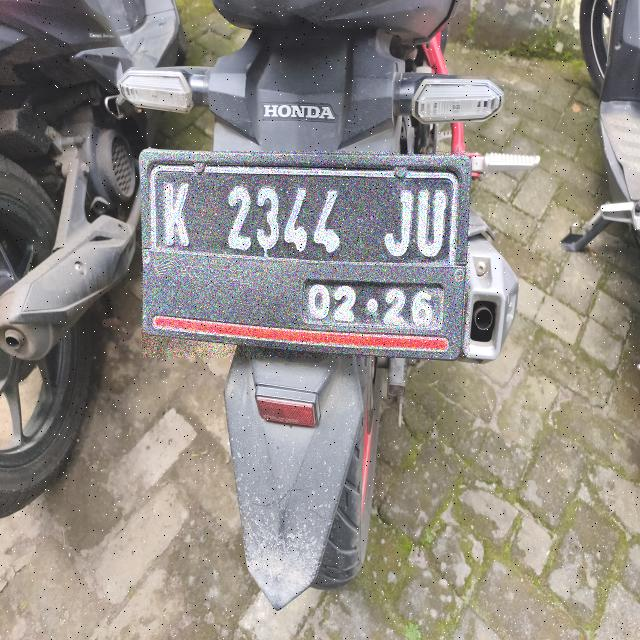plate: (141, 151, 469, 357)
